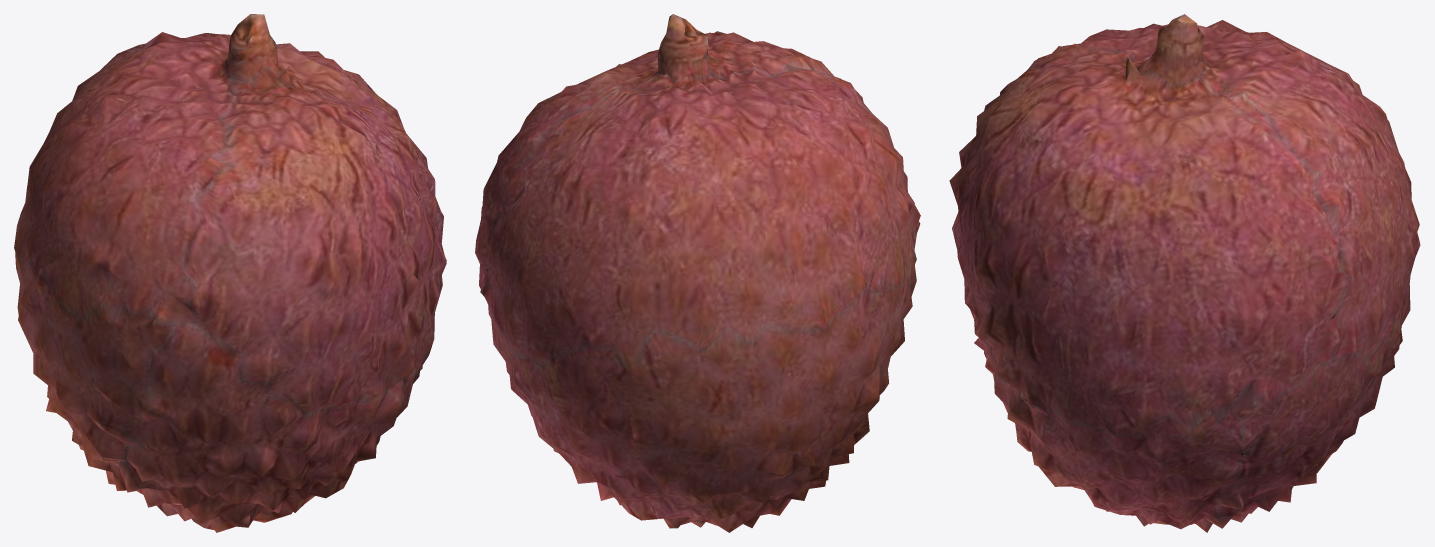
Rendered from lychee.glb.
3 renders of one model, left to right at view 1: azimuth 30°, elevation 25°; view 2: azimuth 150°, elevation 25°; view 3: azimuth 270°, elevation 25°, orthographic. The views are drawn at different scales.
Parts seen in each view (by area): view 1: lychee; view 2: lychee; view 3: lychee.
Part boxes in pixels (left/top/right/bottom): lychee: left=14, top=14, right=446, bottom=532; lychee: left=475, top=14, right=920, bottom=532; lychee: left=949, top=14, right=1420, bottom=532.
Bounding box in the file's own units: 0.0406 × 0.0503 × 0.0416.
1 material, 1 textured.
